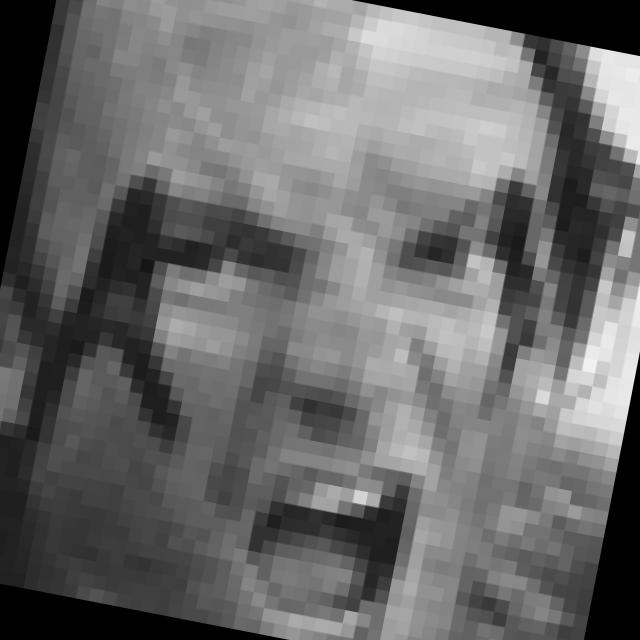angry: (73, 106, 534, 640)
